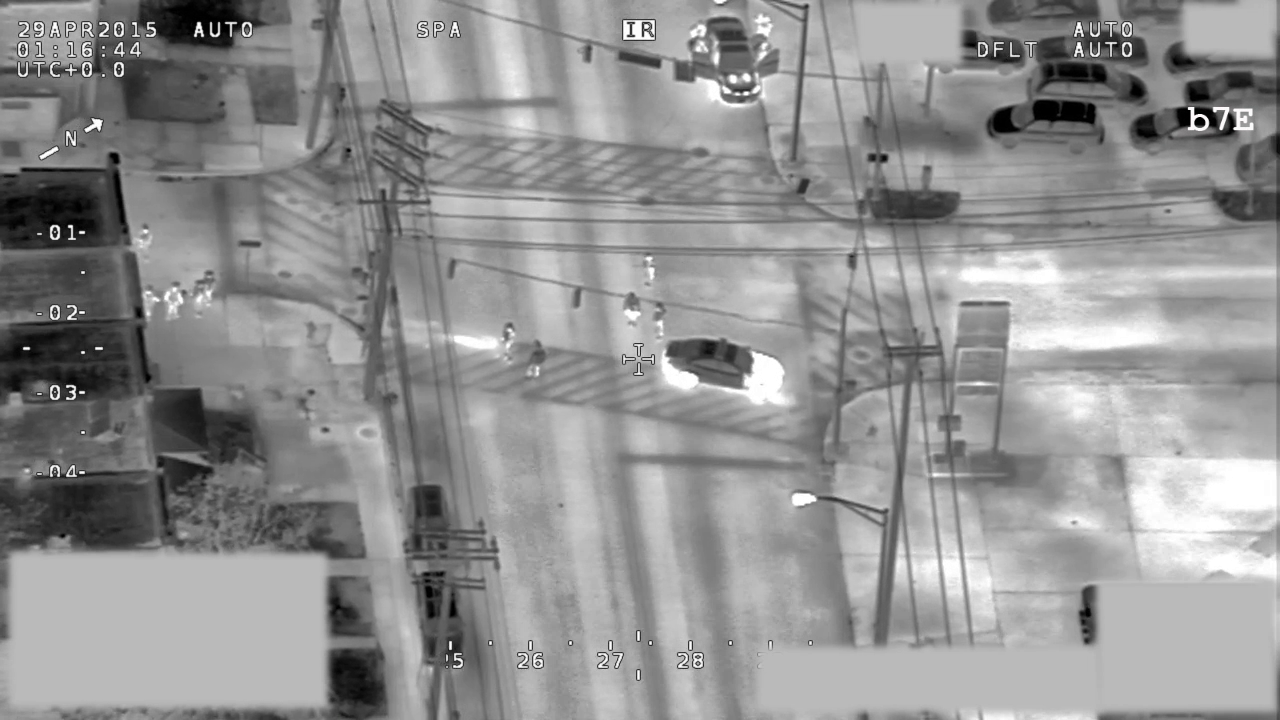vehicle: (681, 15, 783, 108), (661, 333, 789, 403), (977, 93, 1110, 155), (1022, 58, 1153, 108), (1125, 103, 1242, 156), (413, 569, 470, 671), (923, 29, 1027, 77), (1030, 28, 1149, 69), (1182, 69, 1280, 111), (403, 480, 454, 560), (988, 1, 1101, 30), (1227, 128, 1280, 183), (1115, 1, 1182, 25)
